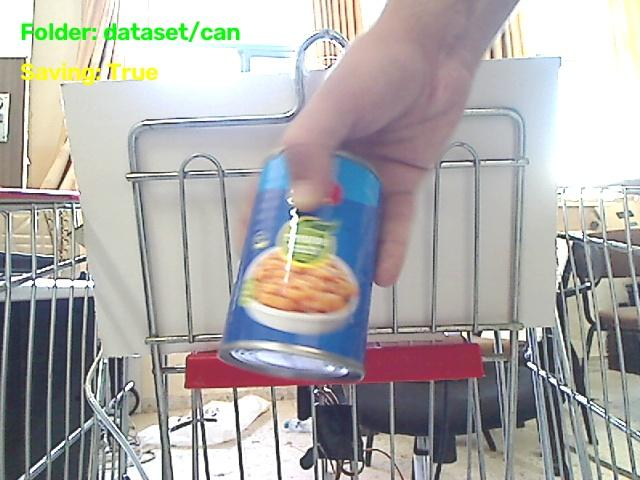can: (219, 153, 380, 380)
